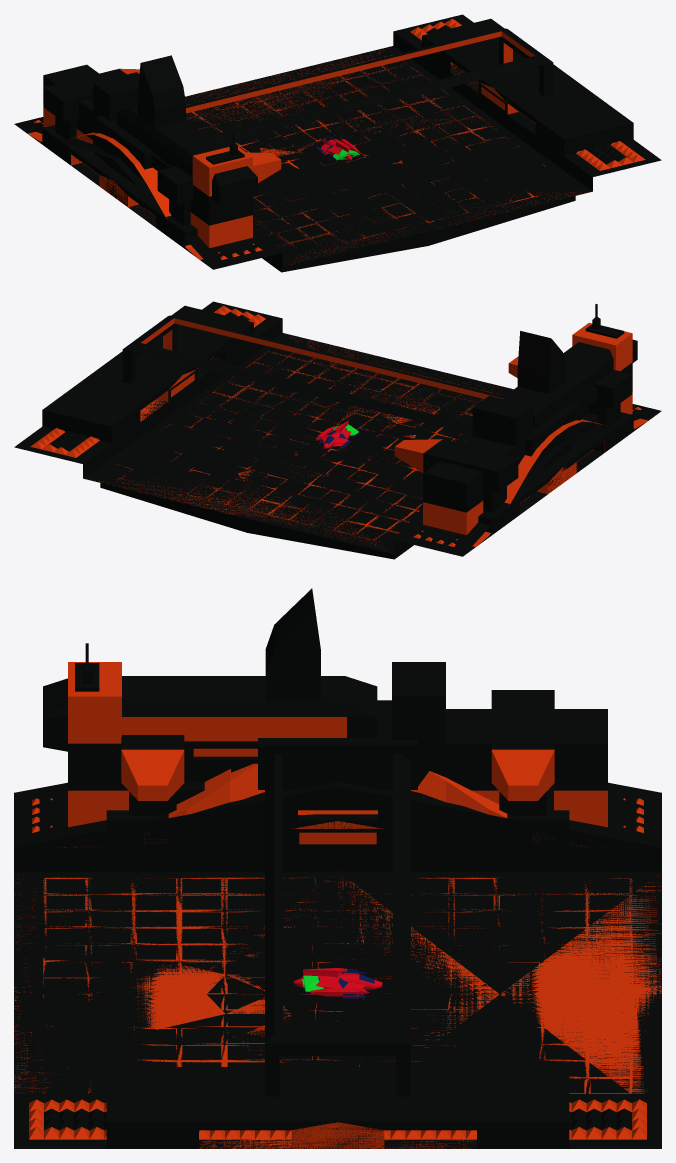
File: ShipsAndEnv3.5.fbx
3 renders of one model, top to bottom at view 1: azimuth 30°, elevation 25°; view 2: azimuth 150°, elevation 25°; view 3: azimuth 270°, elevation 25°, orthographic. The views are drawn at different scales.
Parts seen in each view (by area): view 1: Environment2, Environment0, Environment4, Environment1, Environment5, Environment7, Environment10, Environment13, Environment9, Environment11, Environment3, Environment12 (+3 smaller); view 2: Environment2, Environment7, Environment5, Environment9, Environment0, Environment1, Environment10, Environment13, Environment3, Environment12, Environment4, Environment_Base (+3 smaller); view 3: Environment2, Environment0, Environment7, Environment13, Environment1, Environment6, Environment10, Environment5, Environment12, Environment9, Environment11, Environment8 (+4 smaller).
Boxes of the visible parts, left/top/right/bottom form: Environment2: left=42, top=18, right=633, bottom=248; Environment0: left=17, top=15, right=660, bottom=266; Environment4: left=24, top=14, right=659, bottom=265; Environment1: left=16, top=15, right=633, bottom=272; Environment5: left=15, top=16, right=660, bottom=269; Environment7: left=43, top=16, right=635, bottom=266; Environment10: left=26, top=15, right=584, bottom=263; Environment13: left=117, top=15, right=632, bottom=260; Environment9: left=186, top=16, right=657, bottom=266; Environment11: left=28, top=25, right=660, bottom=264; Environment3: left=86, top=84, right=523, bottom=222; Environment12: left=31, top=18, right=645, bottom=268; Environment2: left=42, top=305, right=633, bottom=534; Environment7: left=59, top=301, right=632, bottom=552; Environment5: left=61, top=302, right=660, bottom=556; Environment9: left=66, top=304, right=509, bottom=551; Environment0: left=42, top=302, right=660, bottom=553; Environment1: left=14, top=318, right=659, bottom=559; Environment10: left=63, top=309, right=632, bottom=550; Environment13: left=137, top=304, right=646, bottom=549; Environment3: left=151, top=377, right=576, bottom=498; Environment12: left=16, top=305, right=659, bottom=554; Environment4: left=61, top=302, right=603, bottom=553; Environment_Base: left=57, top=306, right=598, bottom=537; Environment2: left=106, top=784, right=569, bottom=1148; Environment0: left=14, top=821, right=661, bottom=1148; Environment7: left=14, top=662, right=661, bottom=1148; Environment13: left=14, top=588, right=659, bottom=1148; Environment1: left=14, top=829, right=661, bottom=1148; Environment6: left=14, top=871, right=661, bottom=1148; Environment10: left=14, top=690, right=661, bottom=1148; Environment5: left=14, top=781, right=661, bottom=1148; Environment12: left=14, top=798, right=661, bottom=1148; Environment9: left=14, top=754, right=658, bottom=1148; Environment11: left=14, top=763, right=660, bottom=1148; Environment8: left=14, top=871, right=661, bottom=1148.
Size of the model in its own units: 13092 by 4778 by 10000.
